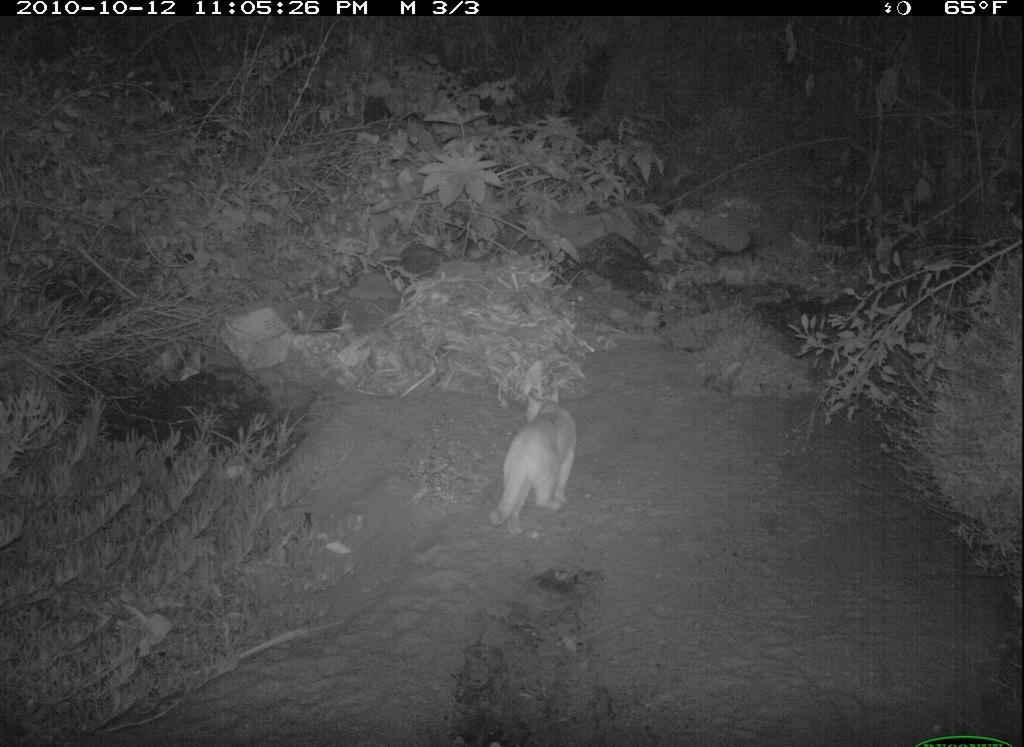cat: (399, 364, 694, 580)
